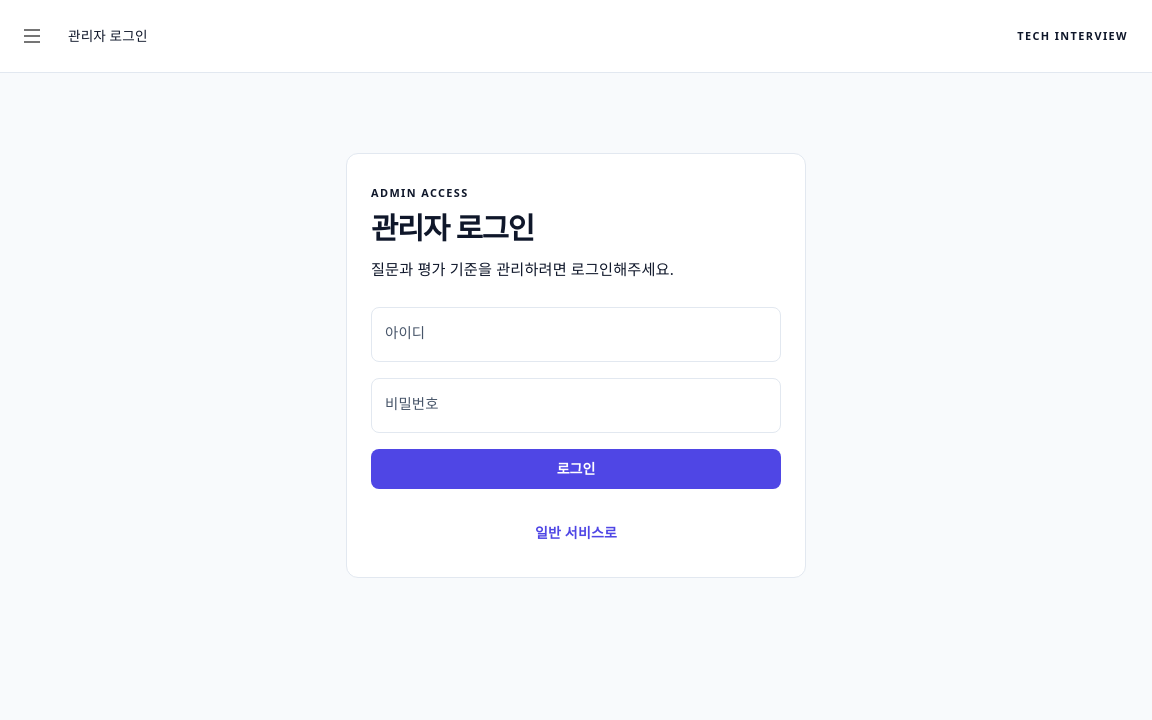
Test: does not fetch or submit on login entry and validates blank credentials
Expected: the heading "관리자 로그인" is shown, [371,207,534,248]
What coordinates should you click on to do the following:
click the button "로그인"
I would click on:
 (576, 469)
Its box is [371,449,781,489].
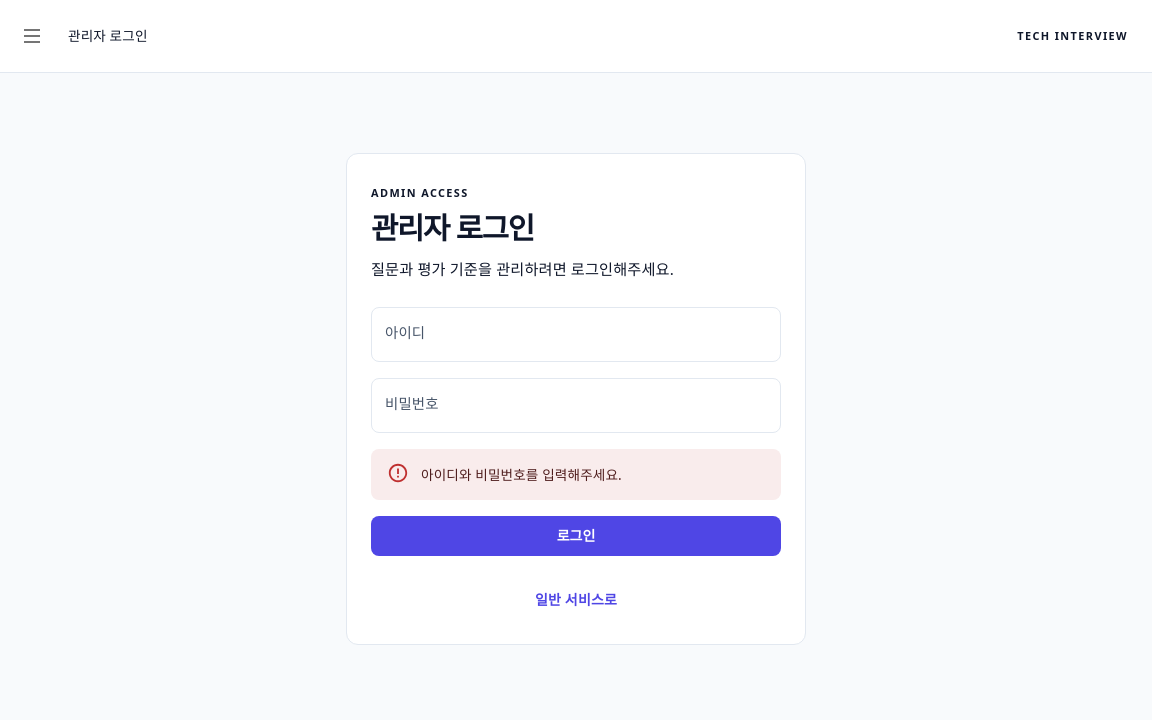
Result: the message reads "아이디와 비밀번호를 입력해주세요." at [421,465,622,484]
